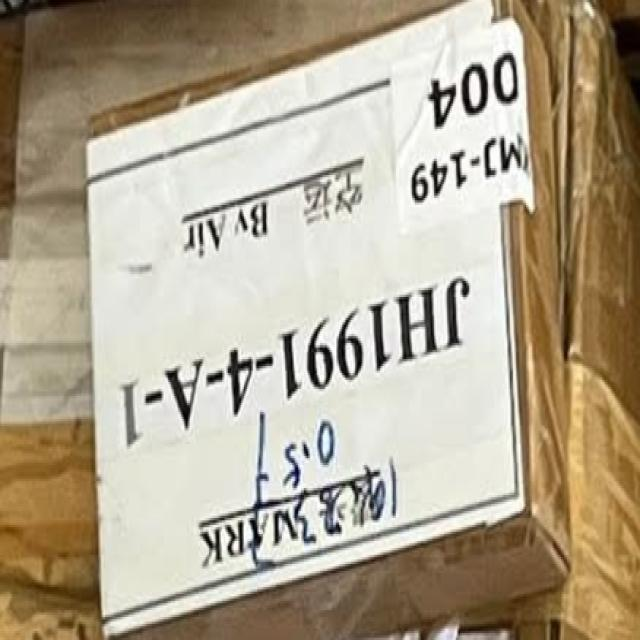carton_box: (7, 0, 587, 640)
export_mark_label: (80, 112, 509, 629)
